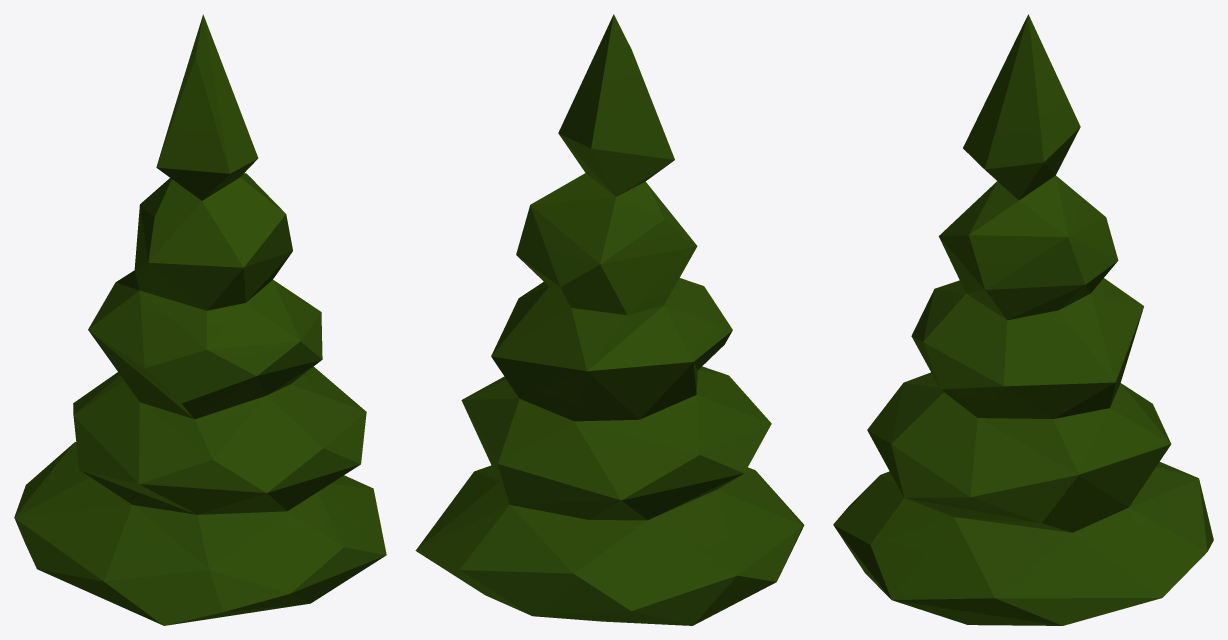
File: Pine_Small_A.glb
3 renders of one model, left to right at view 1: azimuth 30°, elevation 25°; view 2: azimuth 150°, elevation 25°; view 3: azimuth 270°, elevation 25°, orthographic.
Parts seen in each view (by area): view 1: Pine_Small_A_LOD0; view 2: Pine_Small_A_LOD0; view 3: Pine_Small_A_LOD0.
Boxes of the visible parts, x1=… form: Pine_Small_A_LOD0: x1=14, y1=14, x2=386, y2=625; Pine_Small_A_LOD0: x1=415, y1=14, x2=804, y2=625; Pine_Small_A_LOD0: x1=833, y1=14, x2=1213, y2=625.
Size of what is drawn, in the model's own units: 2.65 by 4.63 by 2.71.
